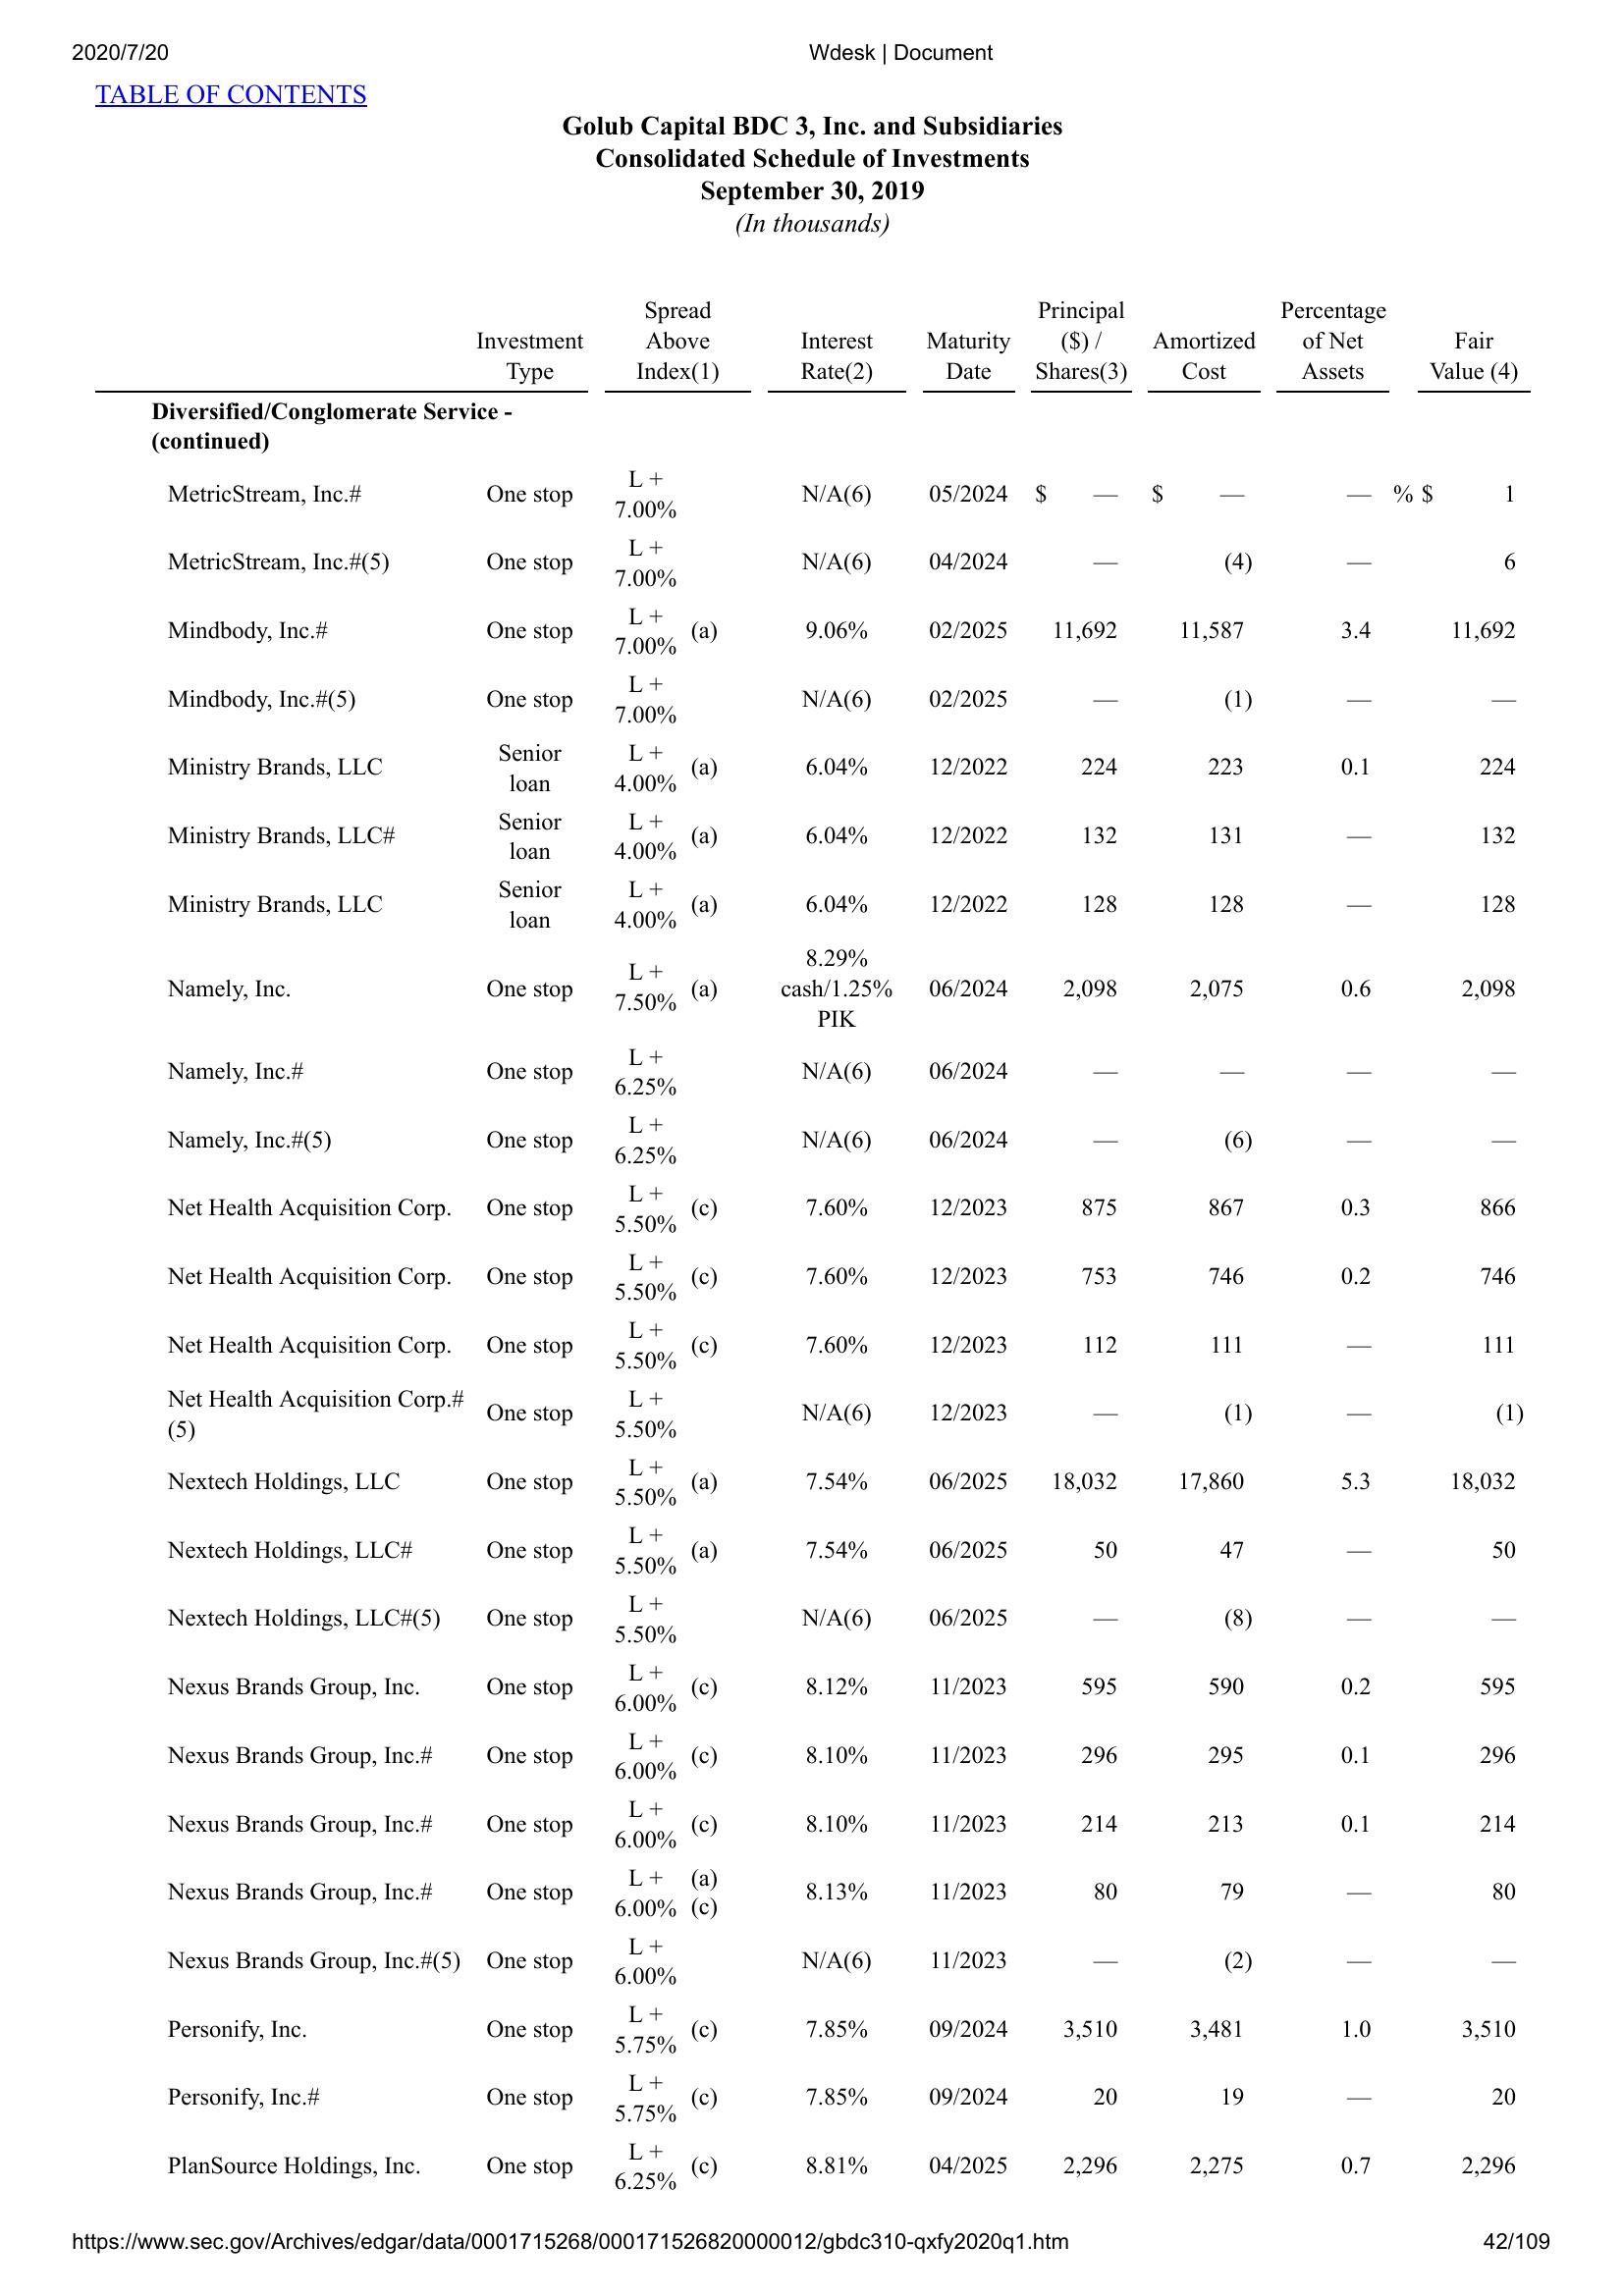table: (84, 281, 1551, 2185)
